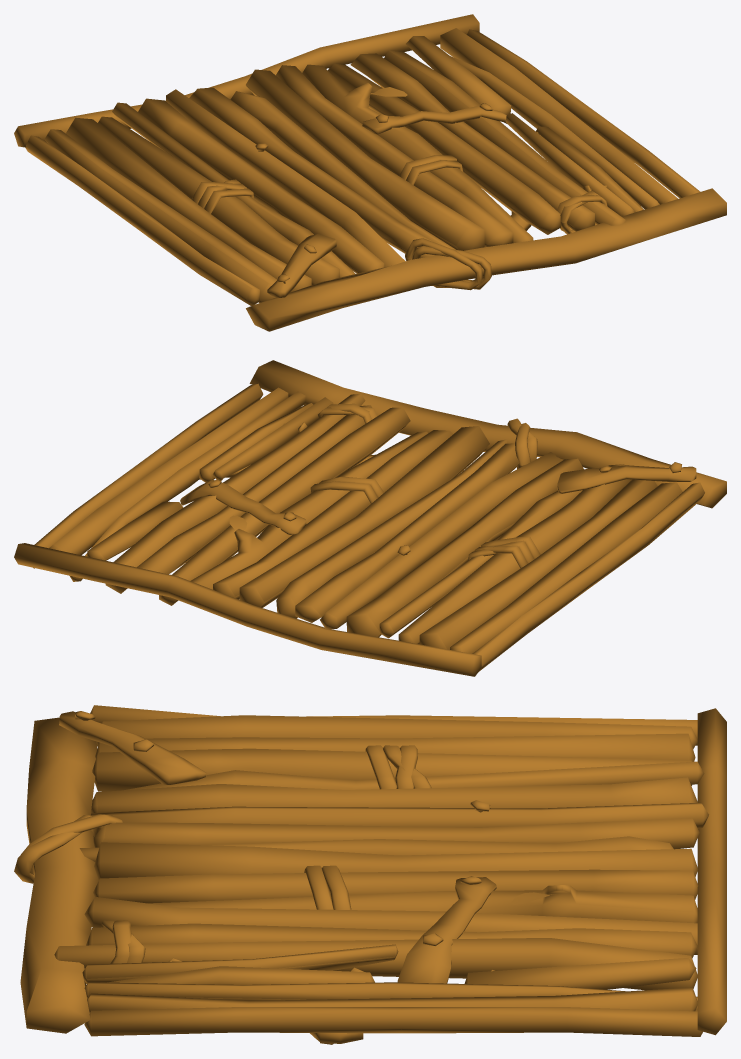
File: Wood_Model.fbx
The picture shows the model from 3 angles, top to bottom: view 1: azimuth 30°, elevation 25°; view 2: azimuth 150°, elevation 25°; view 3: azimuth 270°, elevation 25°; orthographic projection. The views are drawn at different scales.
Parts seen in each view (by area): view 1: PBW_W1_Solid_Untitled; view 2: PBW_W1_Solid_Untitled; view 3: PBW_W1_Solid_Untitled.
Part boxes in pixels (x1,y1,x2,y2): PBW_W1_Solid_Untitled: (14, 14, 726, 331); PBW_W1_Solid_Untitled: (14, 360, 726, 676); PBW_W1_Solid_Untitled: (14, 705, 726, 1044).
Bounding box in the file's own units: 600 × 71.38 × 600.
